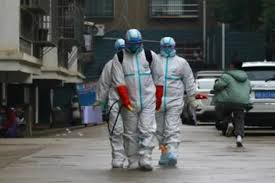mask: (125, 28, 144, 51), (159, 38, 176, 56), (115, 39, 125, 55)
